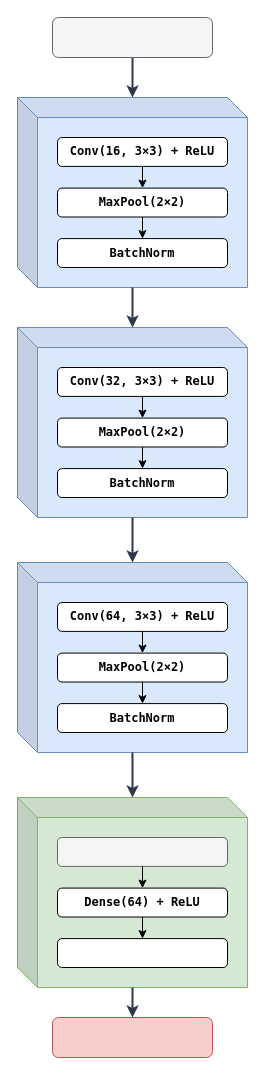
Image size: 265x1075. Some labels were removed from this diagram. Each missing label, with the centre of its shape:
"Dense(1) + Sigmoid" belongs at [132,1037].
"Dropout(0.5)" belongs at [142,953].
"Flatten (4096)" belongs at [142,851].
"Input (64×64×1)" belongs at [132,37].
